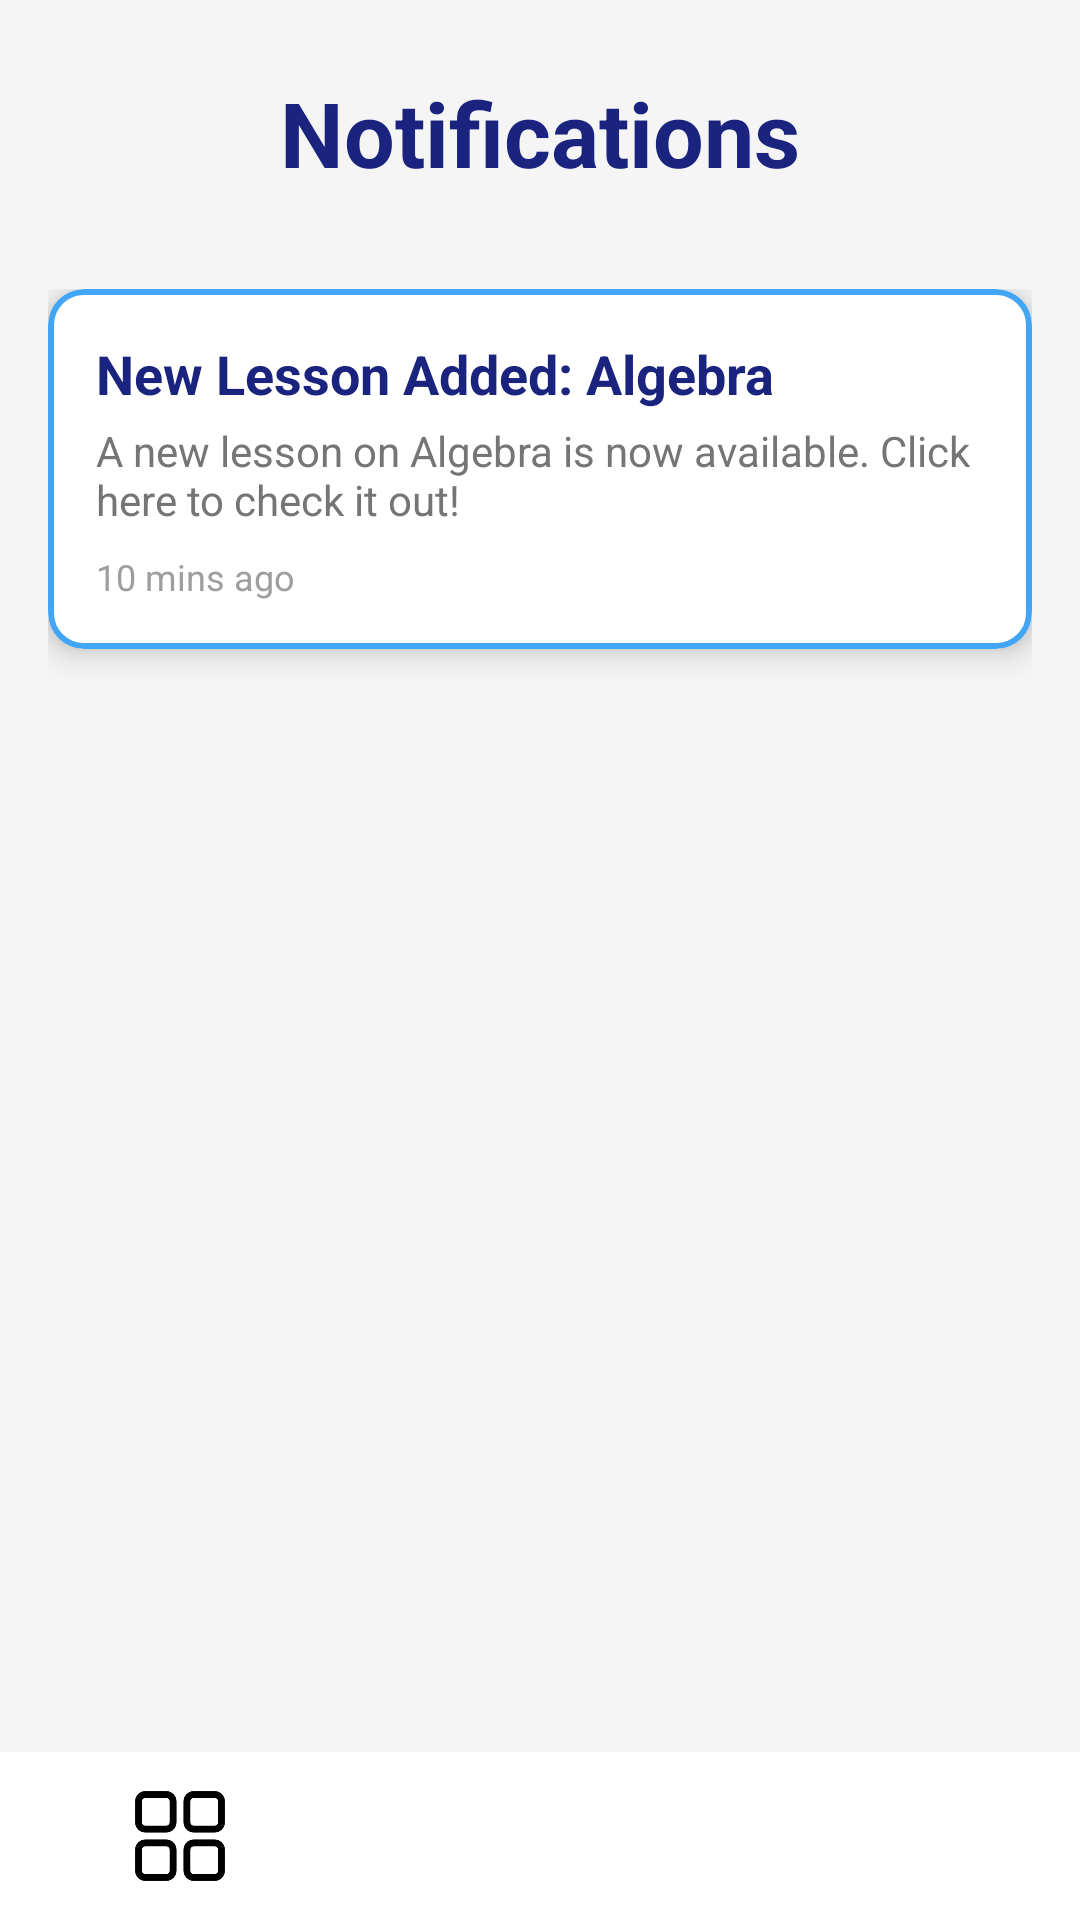

Icons on this 1080 × 1920 Android screen, each with its box as BBox(x1, y1, x2, y2):
Home: BBox(135, 1791, 225, 1881)
